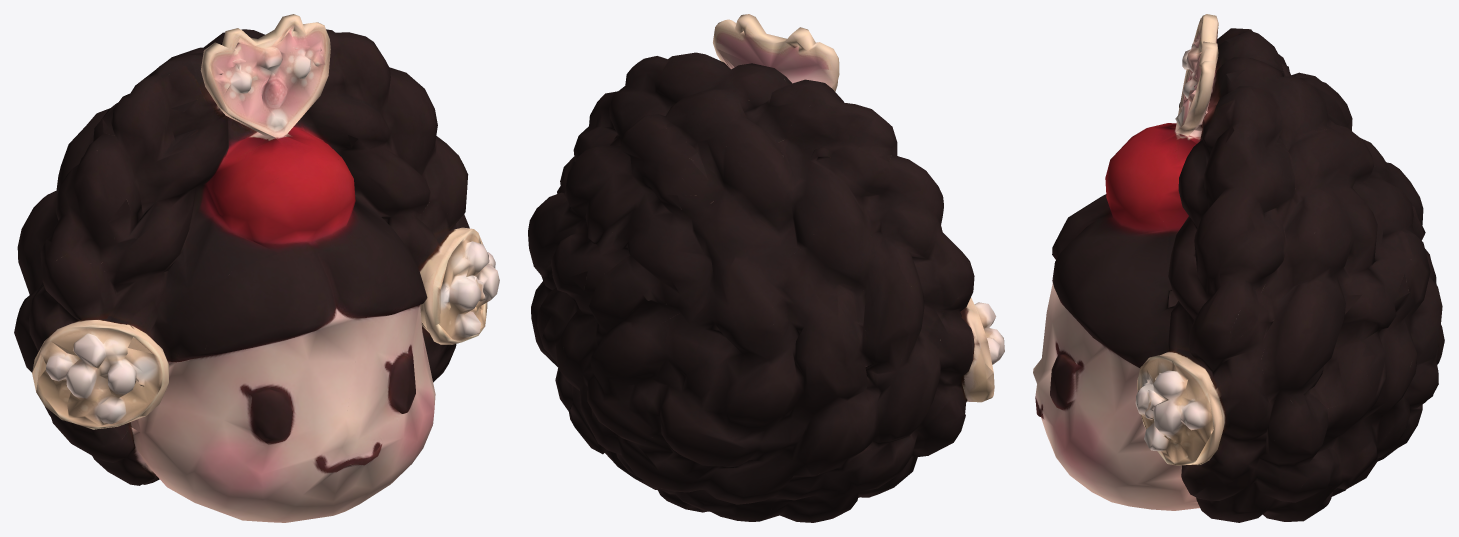
Rendered from jungsun_head.glb.
The picture shows the model from 3 angles, left to right: view 1: azimuth 30°, elevation 25°; view 2: azimuth 150°, elevation 25°; view 3: azimuth 270°, elevation 25°; orthographic projection.
Visible parts, largest first — view 1: Mesh_0.001; view 2: Mesh_0.001; view 3: Mesh_0.001.
Boxes of the visible parts, x1,y1,x2,y2 form: Mesh_0.001: (14, 14, 499, 522); Mesh_0.001: (528, 14, 1004, 522); Mesh_0.001: (1033, 14, 1444, 522).
Bounding box in the file's own units: 0.2453 × 0.2401 × 0.1946.
Materials: 1 (1 with a texture image).
